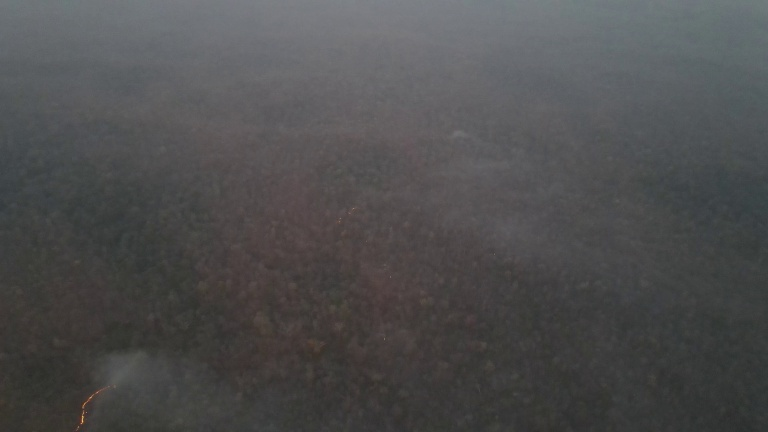fire: (72, 380, 120, 432), (326, 202, 360, 232), (378, 262, 393, 282), (382, 334, 388, 344)
smoke: (97, 348, 233, 432)
